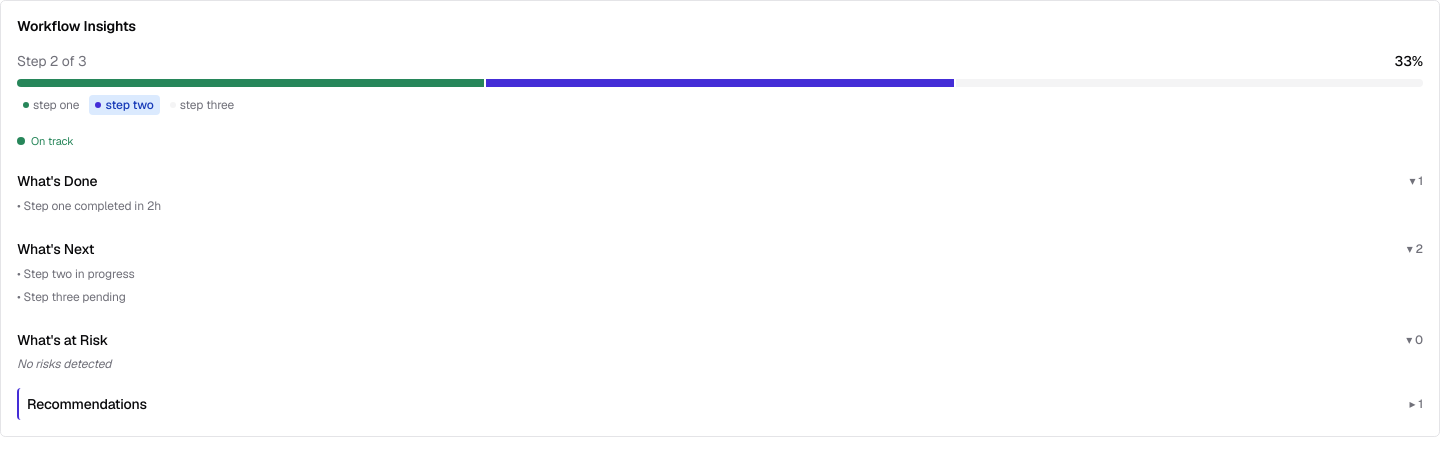
Test: InsightsPanel › toggles section collapse
The image size is (1440, 454).
# Click to collapse "What's Done"
Click the text "What's Done".
click(57, 181)  # box [17,171,98,191]
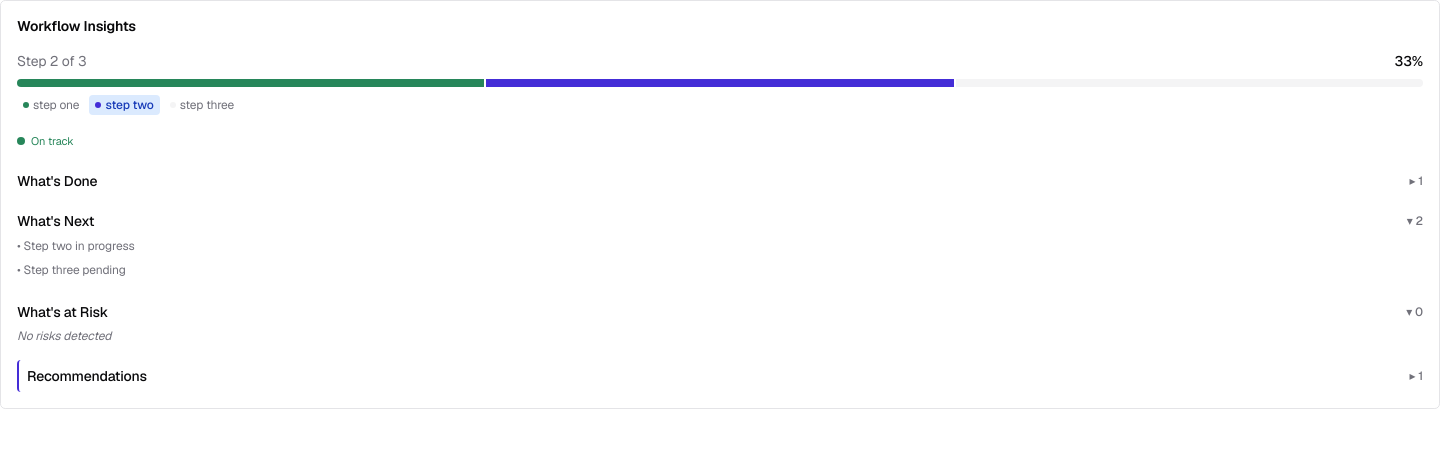
Expected: the list item "Step one completed in 2h" is gone
# Click again to expand
Click the text "What's Done".
click(57, 181)  # box [17,171,98,191]
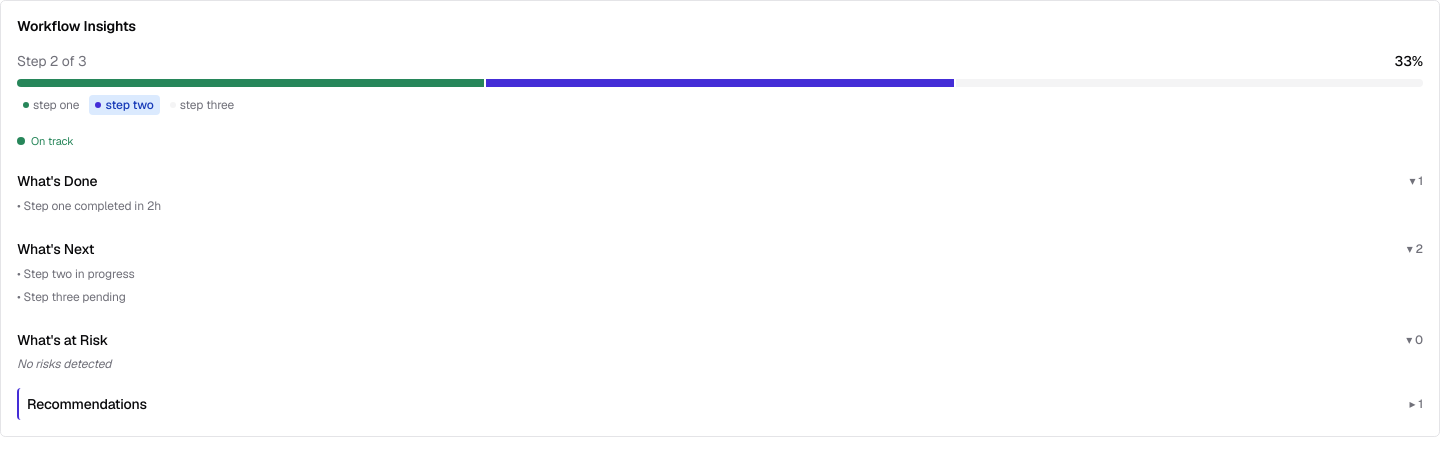
Expected: the list item "• Step one completed in 2h" is shown, [17,198,161,214]
